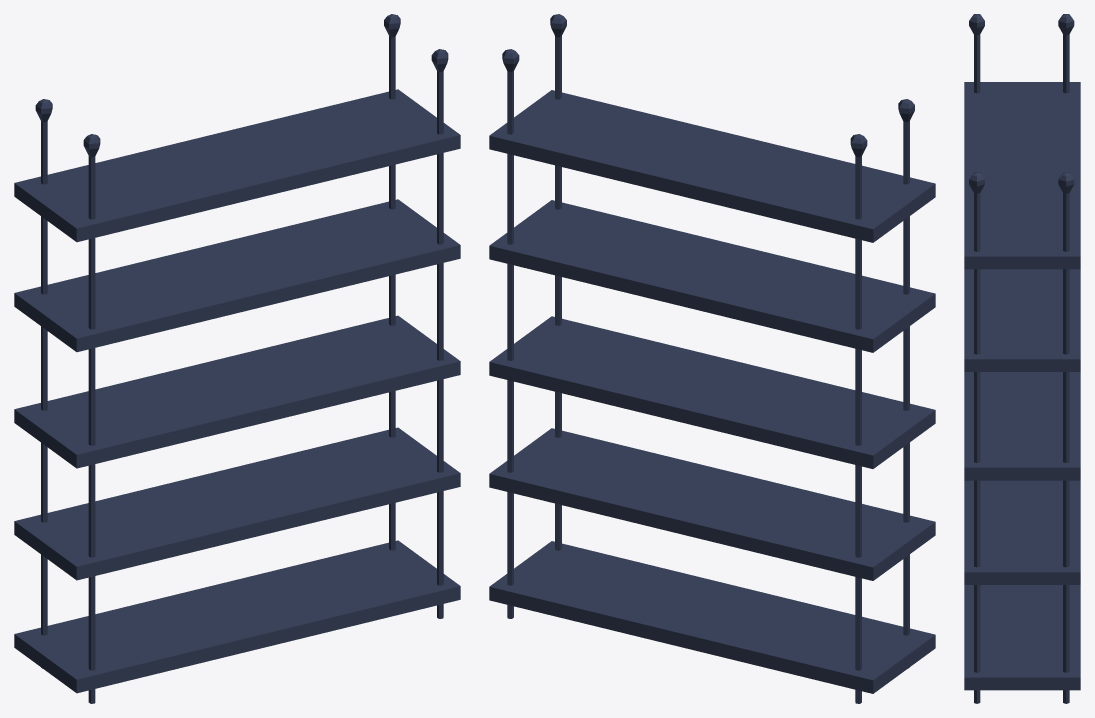
File: Shelf_Small.fbx
The picture shows the model from 3 angles, left to right: view 1: azimuth 30°, elevation 25°; view 2: azimuth 150°, elevation 25°; view 3: azimuth 270°, elevation 25°; orthographic projection. The views are drawn at different scales.
Parts seen in each view (by area): view 1: Shelf_Small_pasted__pCube21; view 2: Shelf_Small_pasted__pCube21; view 3: Shelf_Small_pasted__pCube21.
Boxes of the visible parts, x1,y1,x2,y2 form: Shelf_Small_pasted__pCube21: (14,14,460,703); Shelf_Small_pasted__pCube21: (489,14,935,703); Shelf_Small_pasted__pCube21: (964,14,1080,703).
Size of the model in its own units: 134 by 189 by 37.75.
